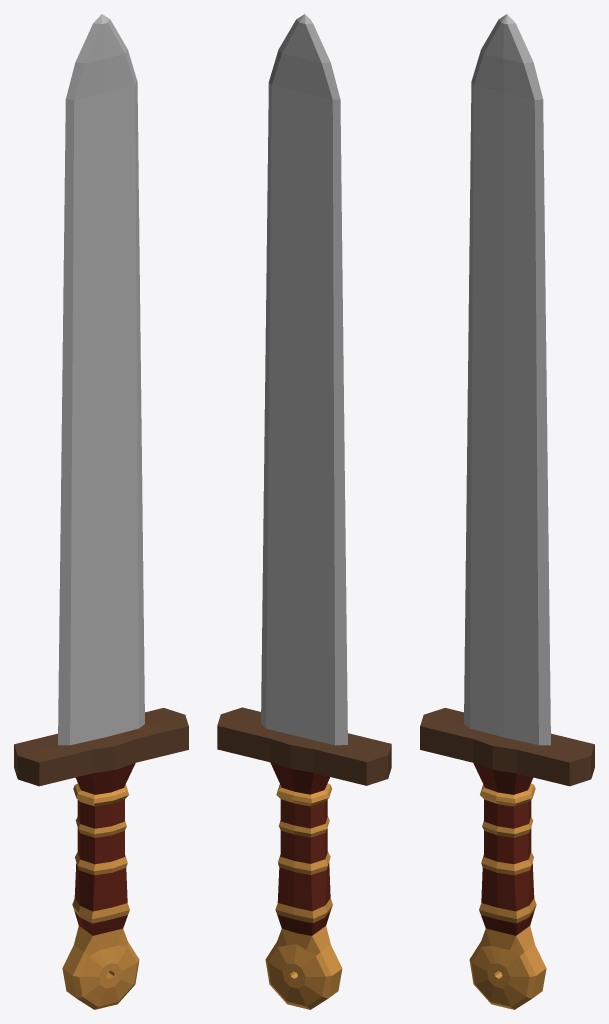
Rendered from Sword.glb.
The picture shows the model from 3 angles, left to right: view 1: azimuth 30°, elevation 25°; view 2: azimuth 150°, elevation 25°; view 3: azimuth 330°, elevation 25°; orthographic projection.
Visible parts, largest first — view 1: Sword; view 2: Sword; view 3: Sword.
Part boxes in pixels (x1,y1,x2,y2): Sword: [14, 14, 188, 1009]; Sword: [217, 14, 391, 1009]; Sword: [420, 14, 594, 1009].
Size of the model in its own units: 0.7711 by 4.35 by 0.2286.
